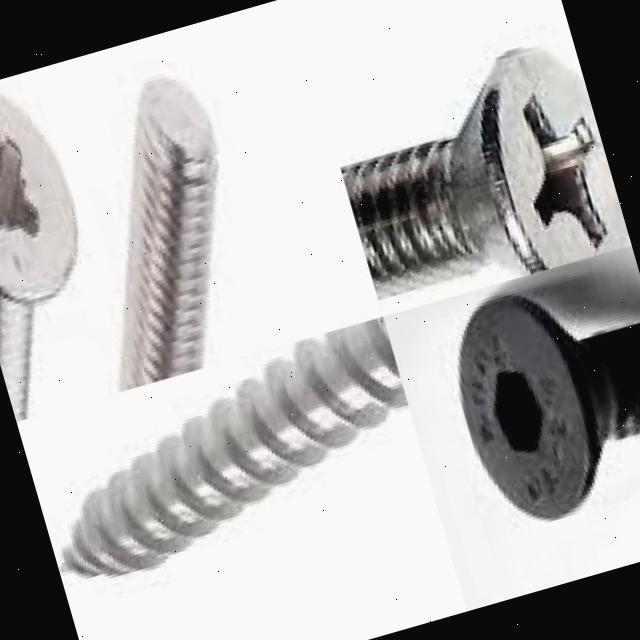Screw: (59, 316, 407, 571), (339, 41, 630, 300), (455, 293, 640, 513), (116, 74, 218, 393), (0, 89, 81, 421)
